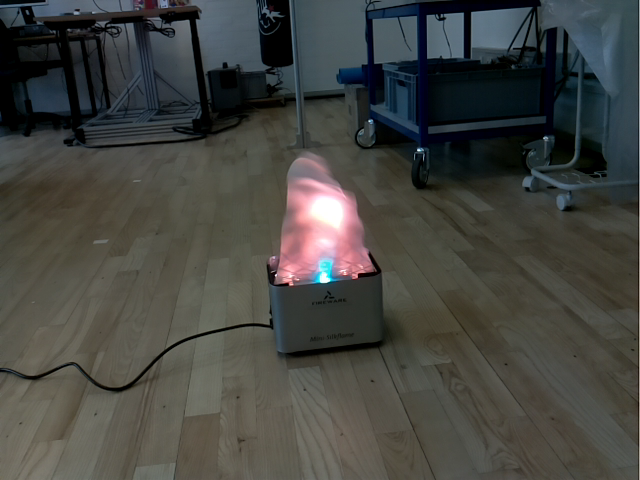fire: (270, 151, 378, 288)
